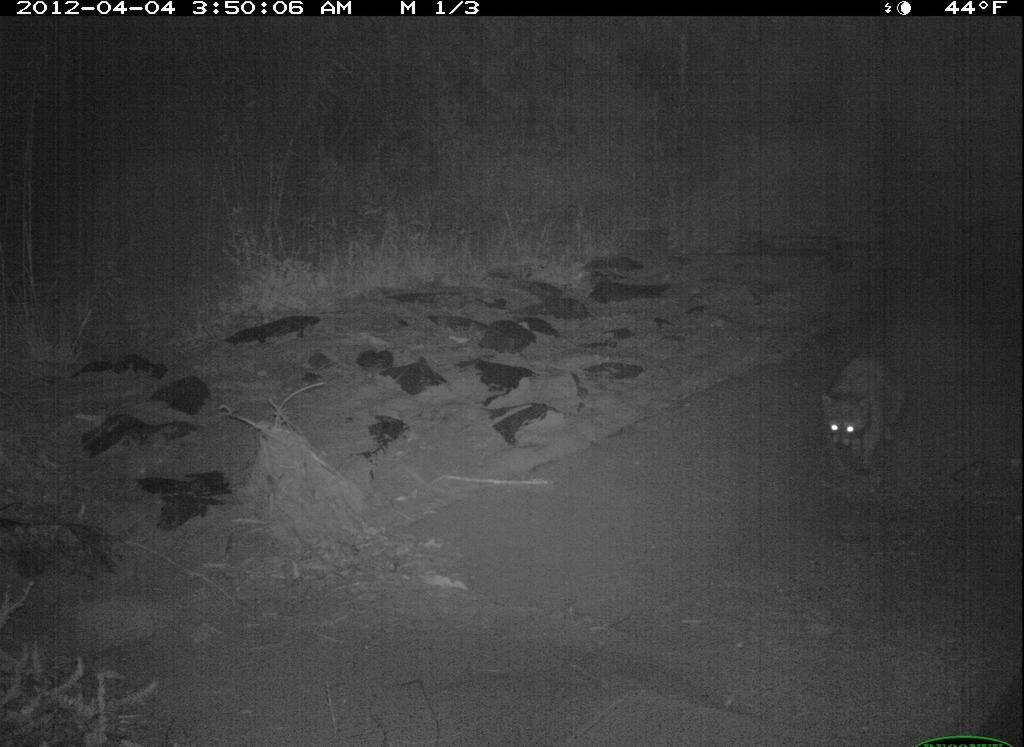raccoon: (811, 336, 923, 478)
